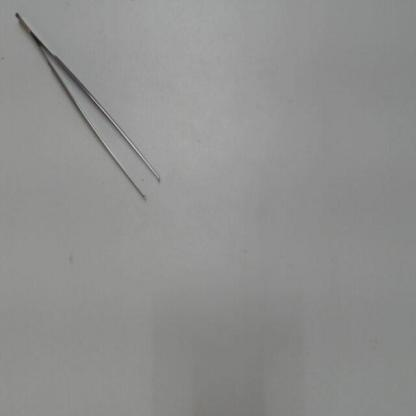Gillies Toothed Dissector: (12, 4, 175, 212)
